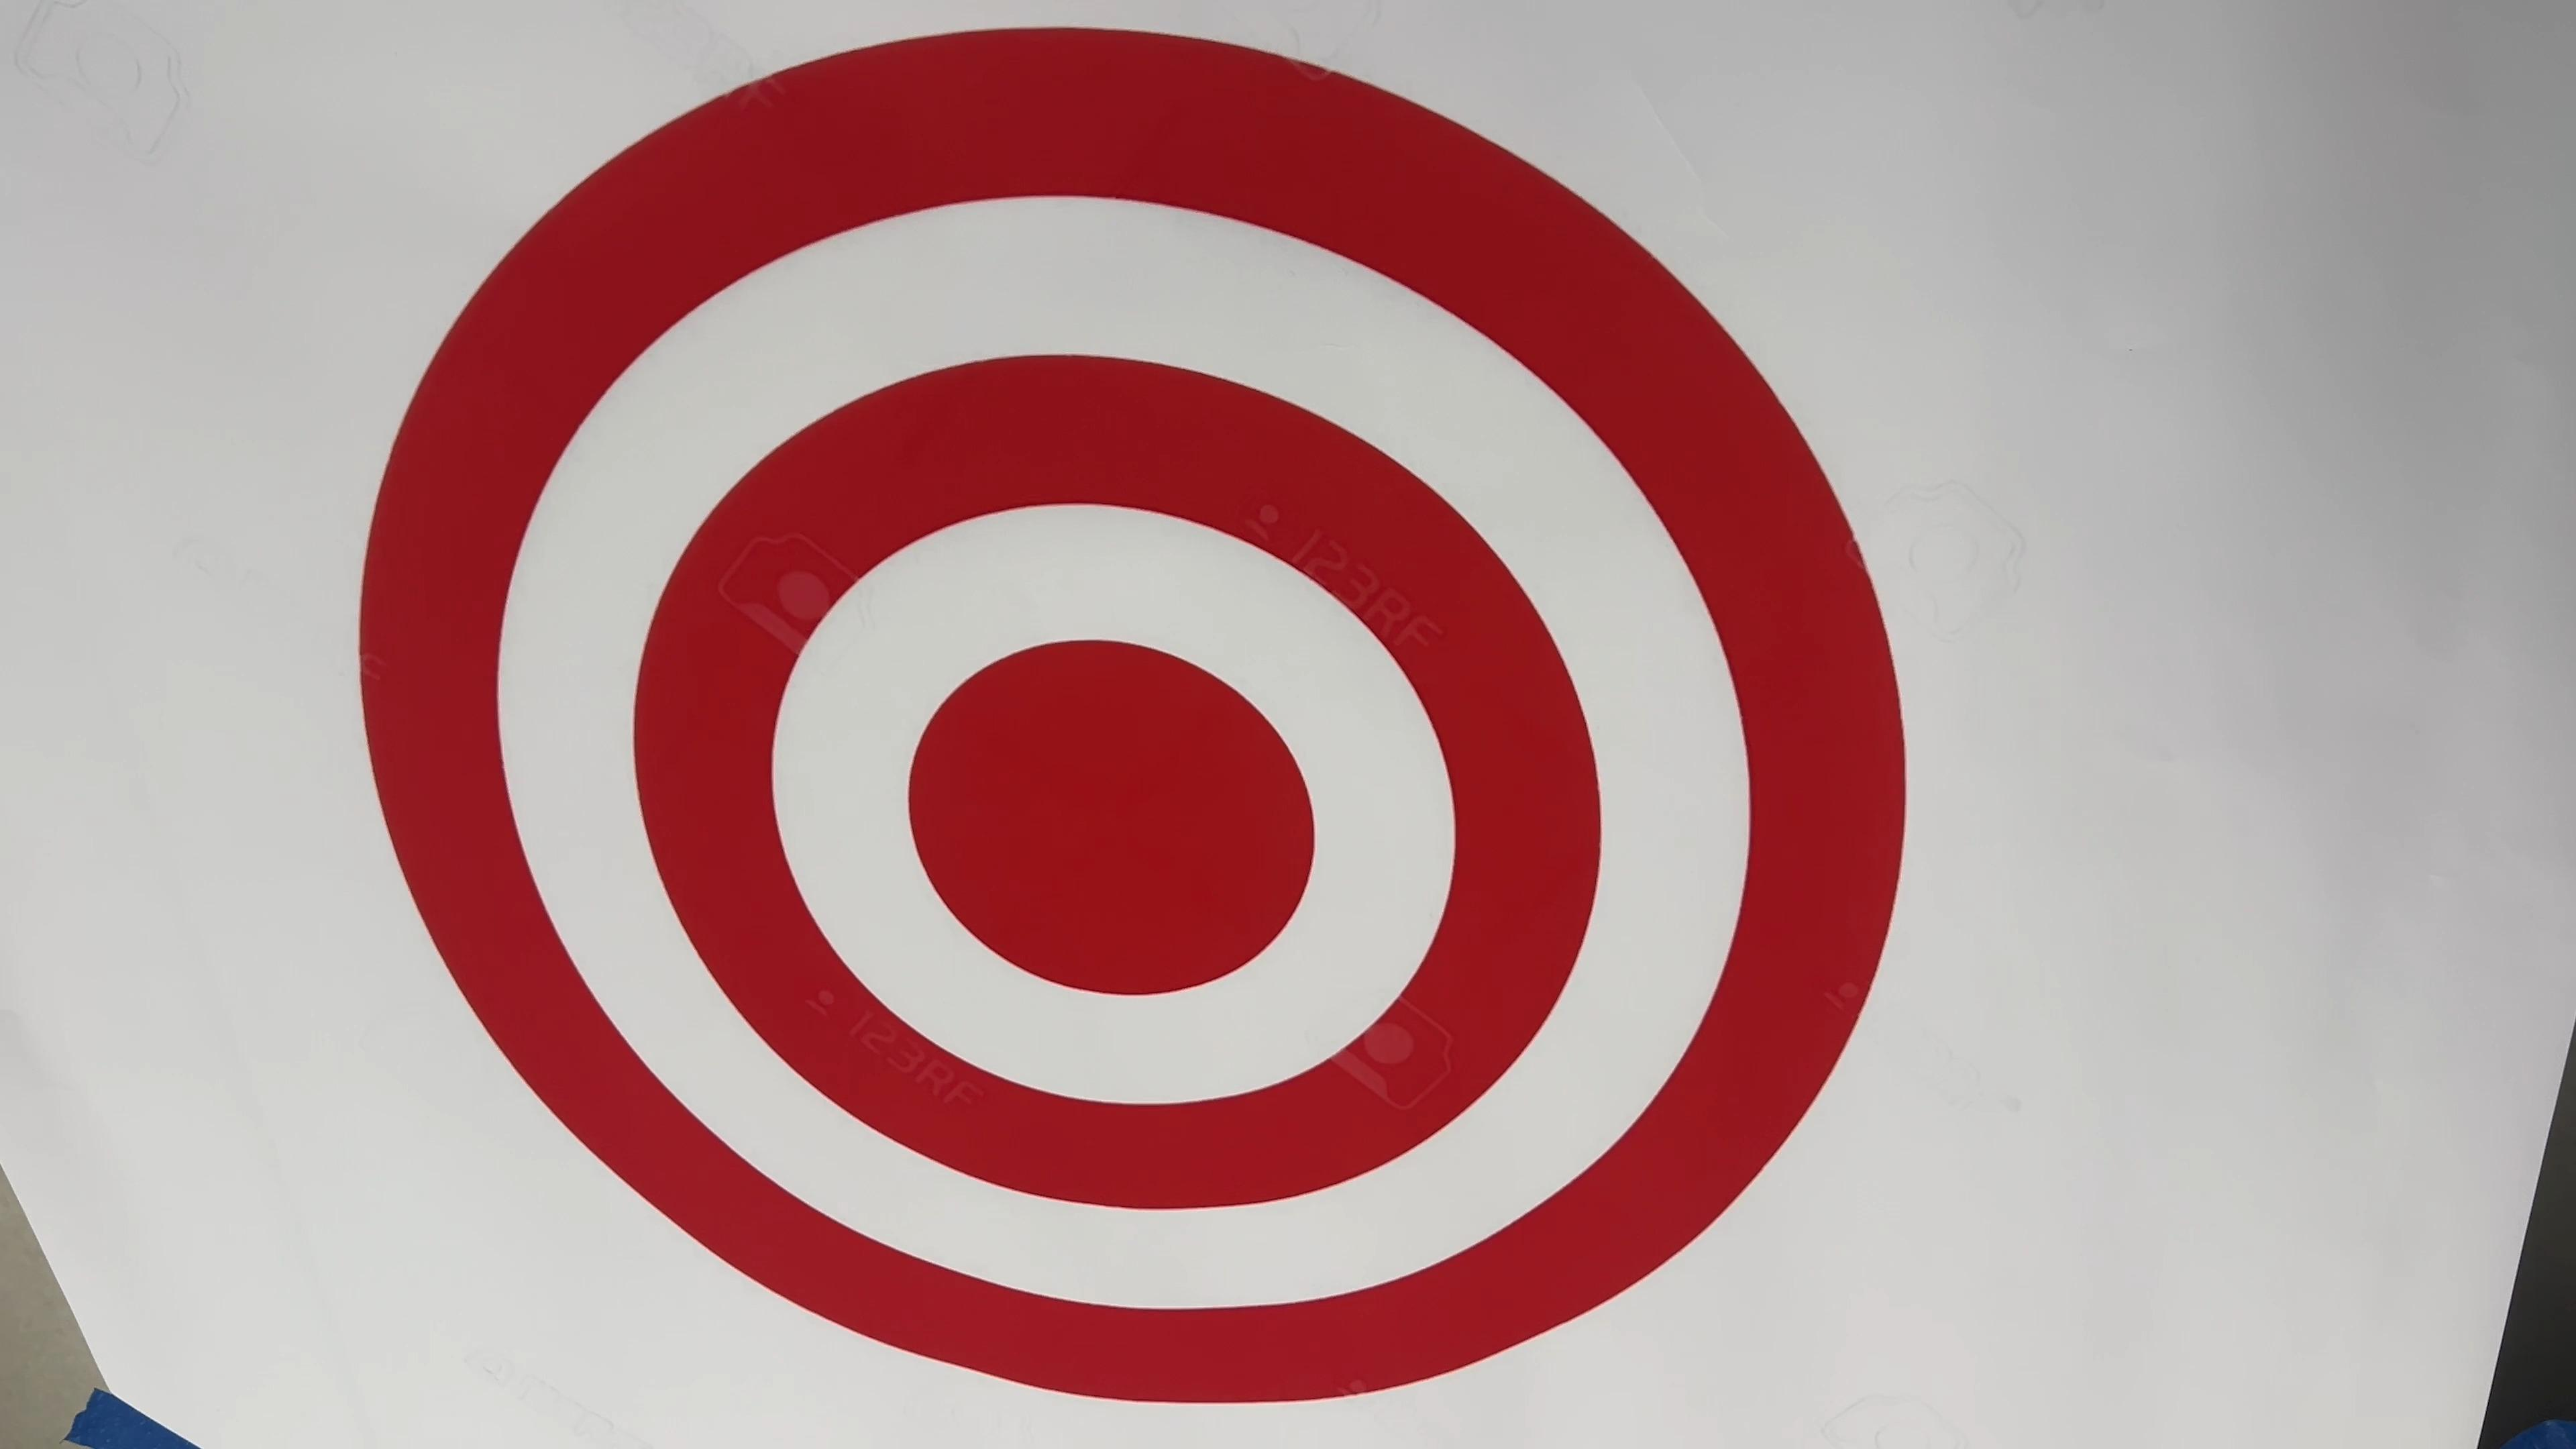target_red: (246, 7, 1973, 1449)
